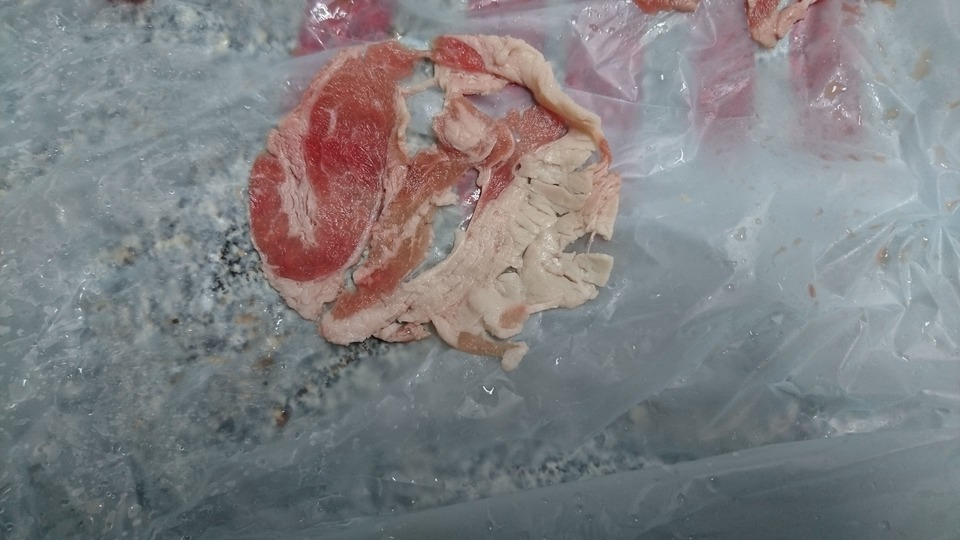restructured meat: (245, 38, 620, 367)
